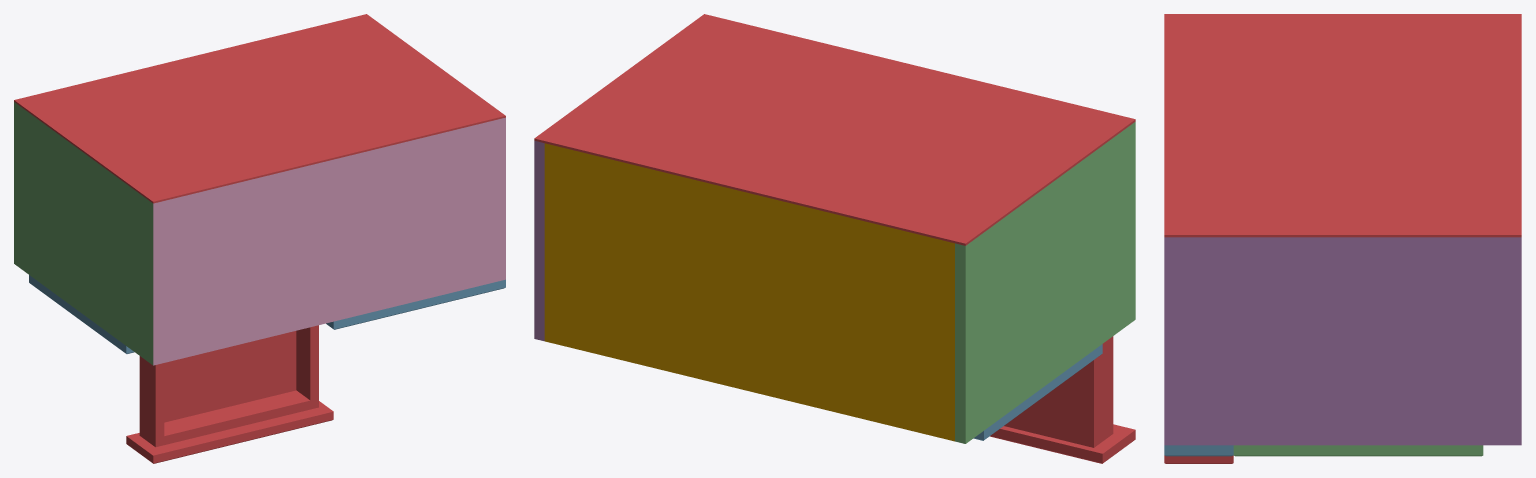
3 renders of one model, left to right at view 1: azimuth 30°, elevation 25°; view 2: azimuth 150°, elevation 25°; view 3: azimuth 270°, elevation 25°, orthographic. The views are drawn at different scales.
Visible parts, largest first — view 1: g7, g9, g2, g0, g1, g10; view 2: g4, g9, g2, g0, g3, g10; view 3: g9, g3, g11, g1, g0.
Boxes of the visible parts, <box> form: g7: <box>153,117,505,365</box>; g9: <box>14,14,505,203</box>; g2: <box>14,102,153,365</box>; g0: <box>126,325,333,463</box>; g1: <box>326,279,505,329</box>; g10: <box>29,275,134,353</box>; g4: <box>544,143,954,441</box>; g9: <box>534,14,1135,245</box>; g2: <box>955,122,1135,443</box>; g0: <box>990,336,1135,463</box>; g3: <box>534,141,544,341</box>; g10: <box>973,344,1102,440</box>; g9: <box>1164,14,1521,237</box>; g3: <box>1164,237,1521,445</box>; g11: <box>1233,445,1483,456</box>; g1: <box>1164,445,1233,456</box>; g0: <box>1164,455,1233,463</box>.
Bounding box in the file's own units: 1.9 × 1.4 × 1.3.
